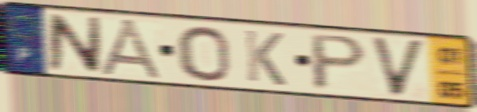A: (96, 17, 168, 82)
K: (242, 27, 289, 89)
N: (46, 11, 104, 76)
O: (174, 24, 233, 84)
P: (309, 32, 370, 93)
V: (367, 34, 429, 100)
